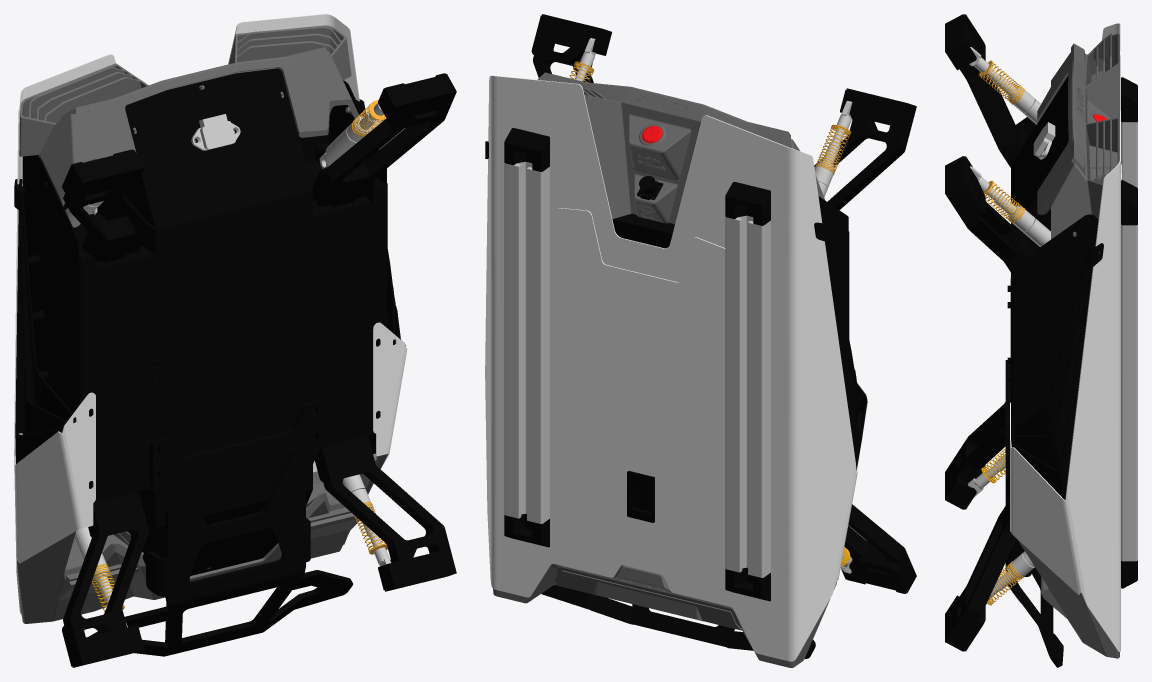
File: scout_mini_base_link2.dae
The picture shows the model from 3 angles, left to right: view 1: azimuth 30°, elevation 25°; view 2: azimuth 150°, elevation 25°; view 3: azimuth 270°, elevation 25°; orthographic projection. The views are drawn at different scales.
Parts seen in each view (by area): view 1: node48, node10, node25, node6, node41, node13, node27, node22, node4, node34, node35, node37 (+1 smaller); view 2: node6, node0, node8, node50, node25, node41, node34, node22, node48, node10, node27, node4 (+6 smaller); view 3: node6, node48, node25, node18, node50, node34, node27, node13, node22, node41, node10, node8 (+11 smaller).
Part boxes in pixels (left/top/right/bottom): node48: left=22, top=68, right=387, bottom=575; node10: left=89, top=401, right=352, bottom=656; node25: left=19, top=25, right=358, bottom=205; node6: left=14, top=14, right=407, bottom=614; node41: left=17, top=454, right=387, bottom=623; node13: left=315, top=435, right=456, bottom=591; node27: left=312, top=73, right=456, bottom=206; node22: left=62, top=491, right=148, bottom=667; node4: left=14, top=179, right=75, bottom=463; node34: left=62, top=149, right=148, bottom=262; node35: left=191, top=114, right=240, bottom=150; node37: left=325, top=116, right=372, bottom=162; node6: left=485, top=75, right=868, bottom=661; node0: left=555, top=208, right=725, bottom=549; node8: left=725, top=215, right=770, bottom=577; node50: left=504, top=161, right=549, bottom=523; node25: left=537, top=72, right=825, bottom=226; node41: left=493, top=564, right=837, bottom=667; node34: left=814, top=88, right=916, bottom=209; node22: left=841, top=504, right=916, bottom=593; node48: left=612, top=196, right=849, bottom=511; node10: left=541, top=585, right=815, bottom=658; node27: left=531, top=14, right=611, bottom=82; node4: left=814, top=222, right=867, bottom=469; node6: left=1010, top=23, right=1120, bottom=651; node48: left=1007, top=75, right=1098, bottom=443; node25: left=1037, top=33, right=1119, bottom=239; node18: left=1011, top=243, right=1103, bottom=499; node50: left=1121, top=225, right=1137, bottom=561; node34: left=945, top=14, right=1028, bottom=167; node27: left=945, top=156, right=1034, bottom=276; node13: left=945, top=499, right=1016, bottom=651; node22: left=945, top=402, right=1005, bottom=509; node41: left=1017, top=539, right=1119, bottom=658; node10: left=1005, top=360, right=1063, bottom=667; node8: left=1121, top=122, right=1137, bottom=188.
Size of the model in its own units: 0.3899 by 0.1822 by 0.5606.
